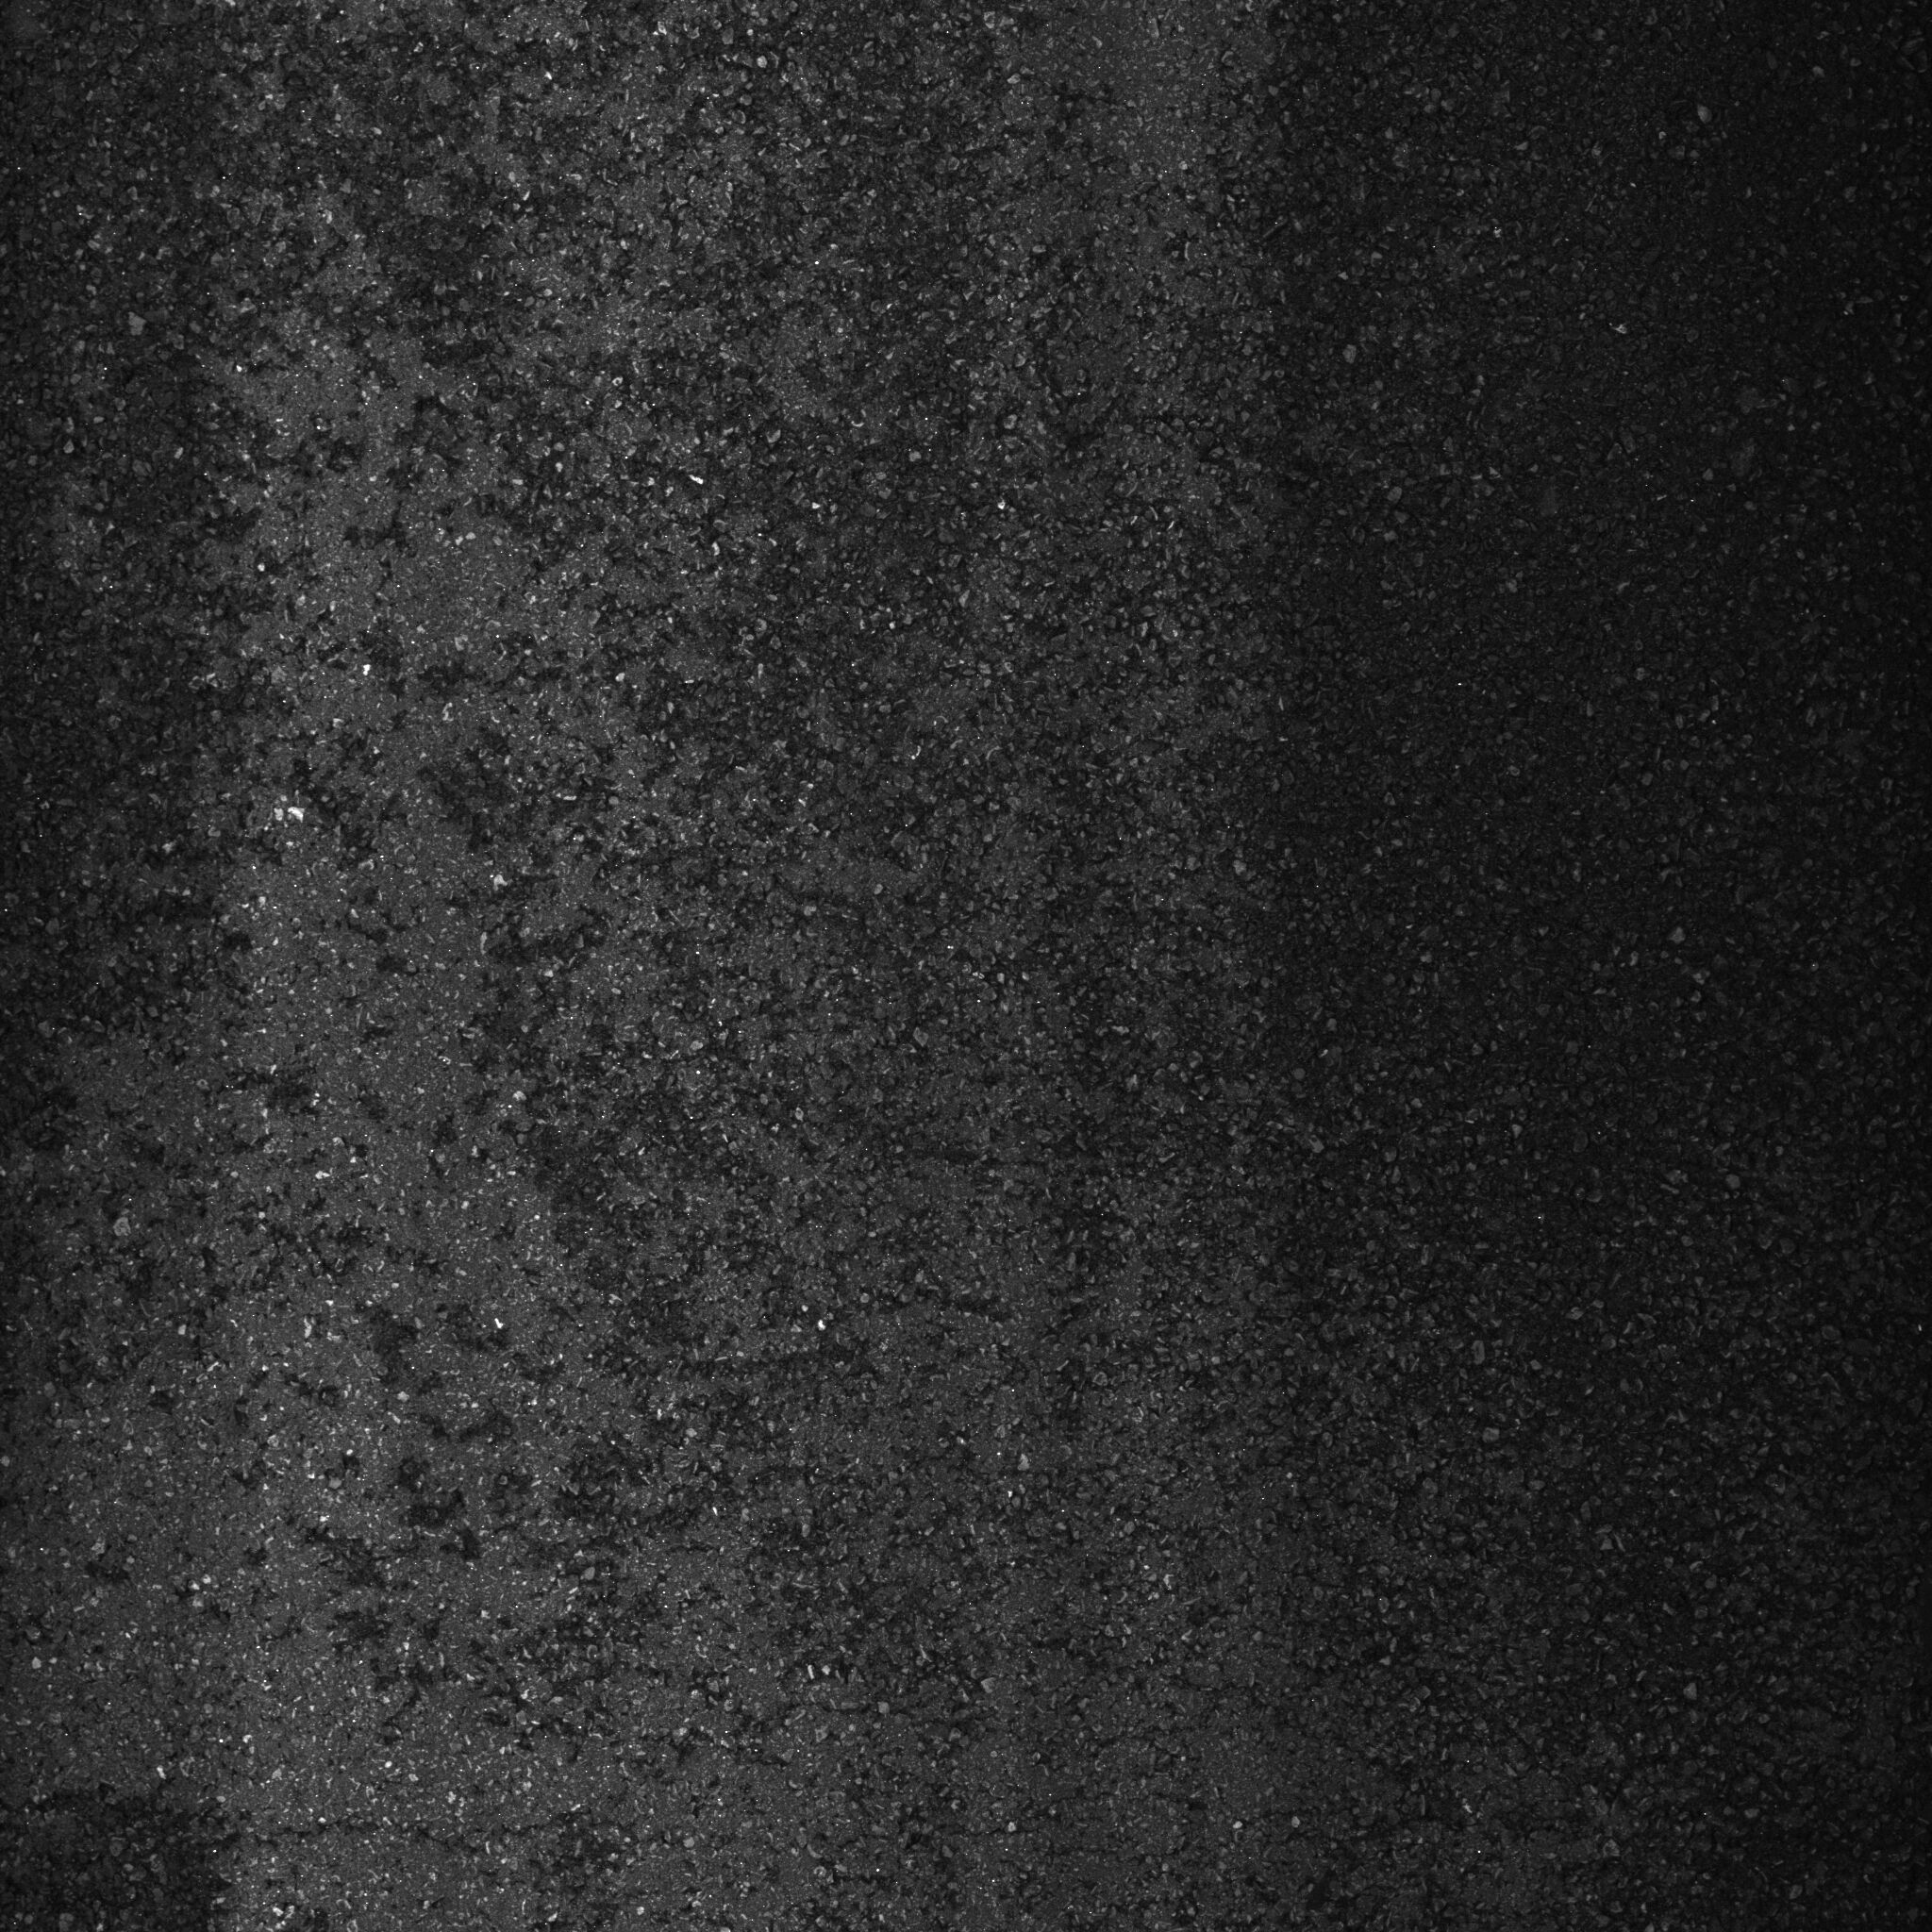transeverse: (32, 1782, 603, 1875), (1001, 363, 1373, 492)
